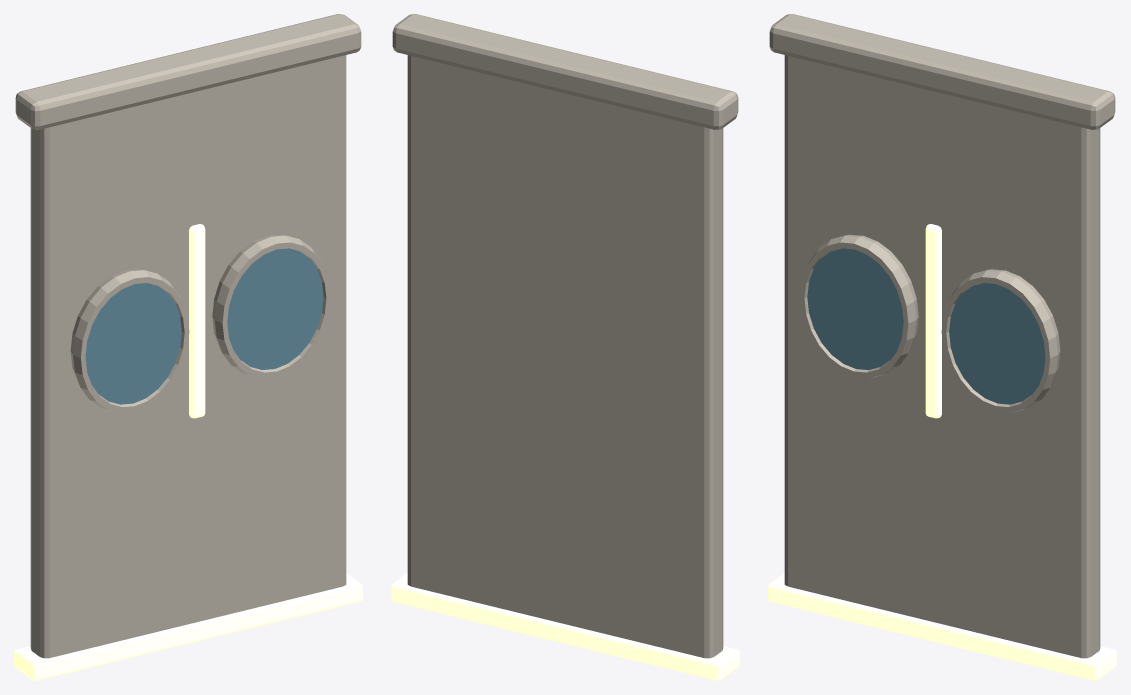
The model's file is cafe_wallpanel.glb.
3 views of the same model, side by side, from view 1: azimuth 30°, elevation 25°; view 2: azimuth 150°, elevation 25°; view 3: azimuth 330°, elevation 25° (orthographic).
Parts seen in each view (by area): view 1: Cube.001; view 2: Cube.001; view 3: Cube.001.
Part boxes in pixels (<box>): Cube.001: <box>14,14,362,680</box>; Cube.001: <box>391,14,739,680</box>; Cube.001: <box>768,14,1116,680</box>.
Bounding box in the file's own units: 2.7 × 4.51 × 0.3979.
